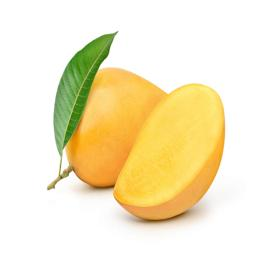Mango Fresh: (39, 44, 225, 222)
